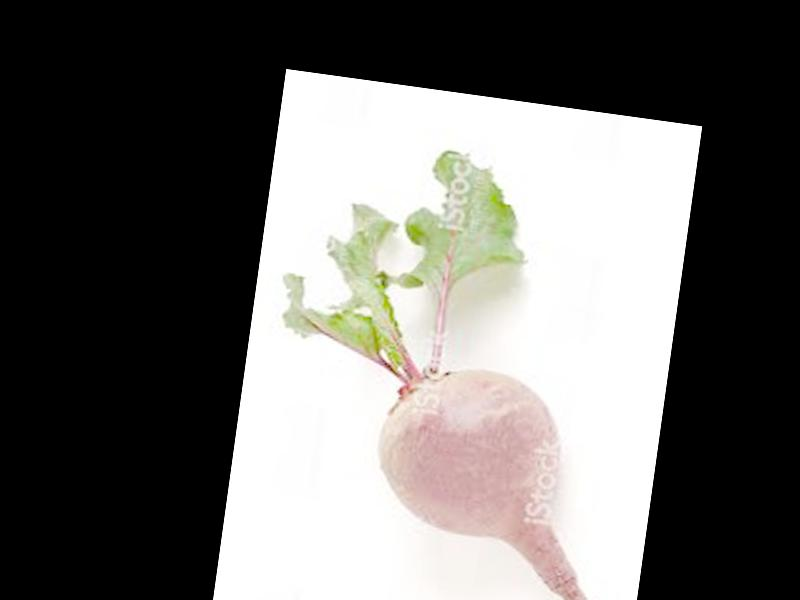Beet: (242, 128, 653, 600)
